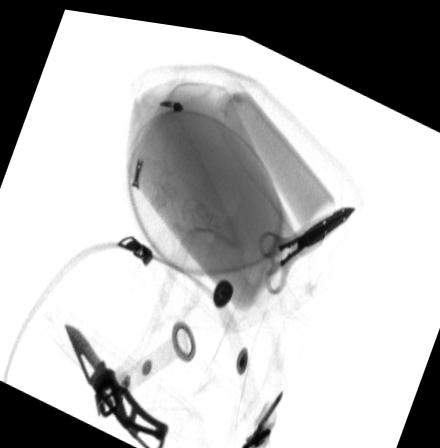Knife: (64, 322, 169, 448)
Scissors: (257, 196, 356, 286)
